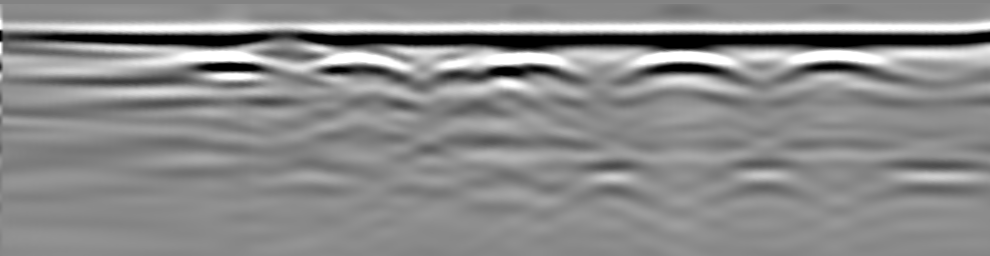pipe: (182, 30, 411, 72)
steel: (768, 50, 917, 79), (616, 50, 755, 81), (424, 54, 583, 80)
